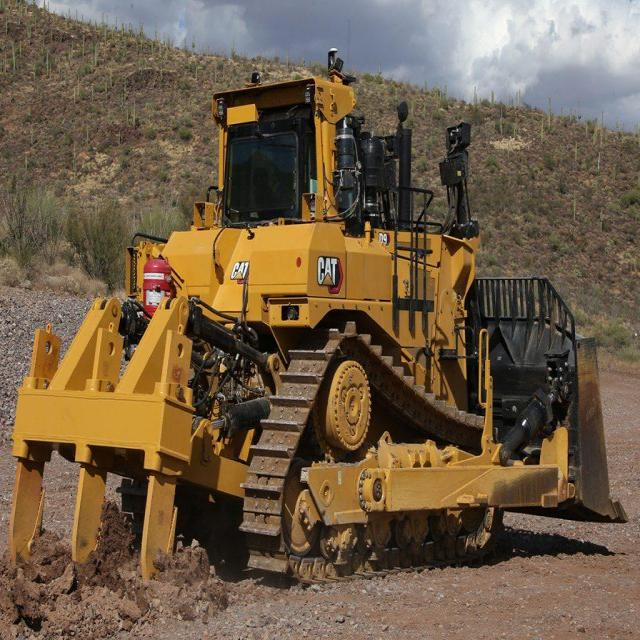Bulldozer: (16, 46, 628, 569)
